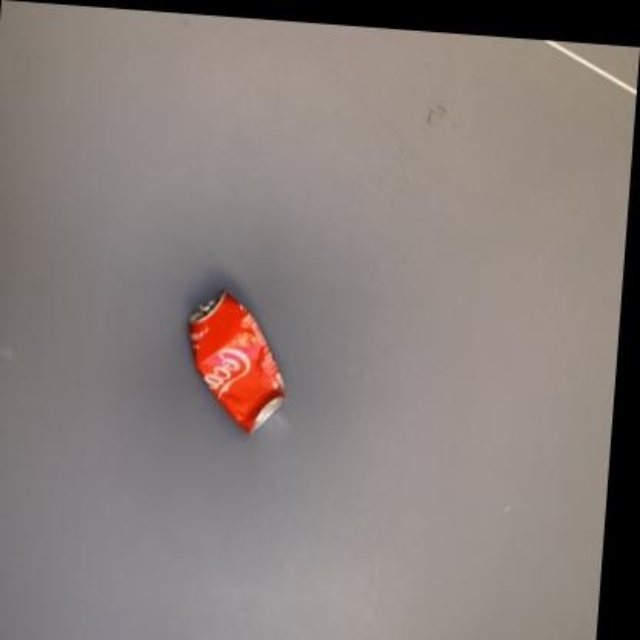trash: (189, 291, 283, 431)
